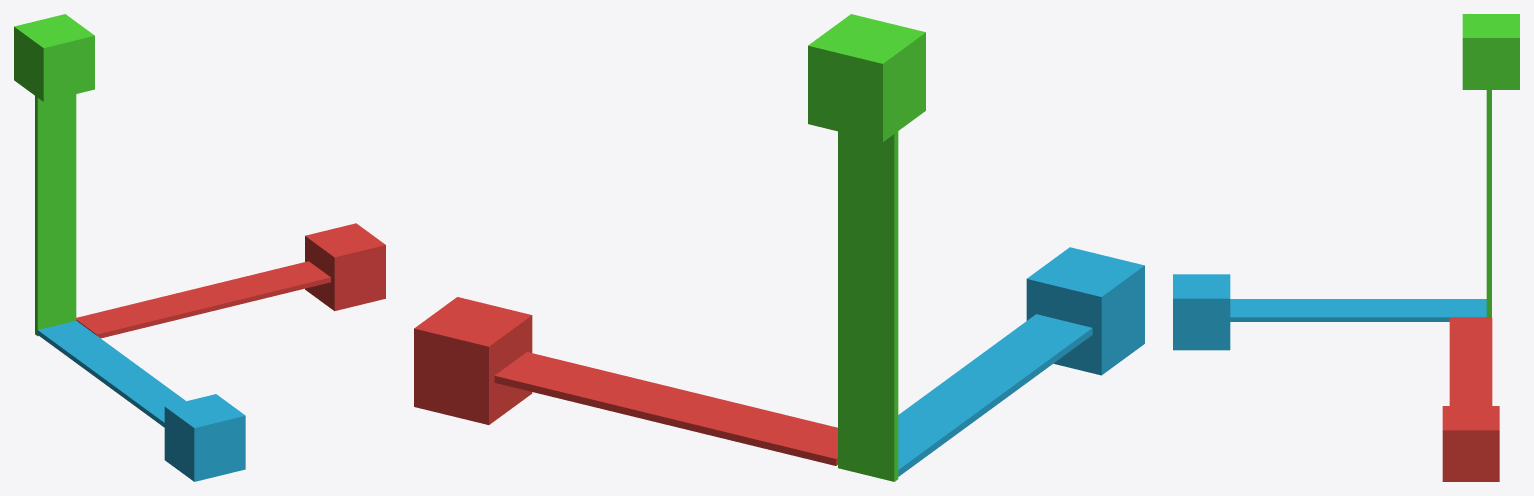
Rendered from scale1.fbx.
The picture shows the model from 3 angles, left to right: view 1: azimuth 30°, elevation 25°; view 2: azimuth 150°, elevation 25°; view 3: azimuth 270°, elevation 25°; orthographic projection. The views are drawn at different scales.
Parts seen in each view (by area): view 1: ScaleY, ScaleX, ScaleX.001; view 2: ScaleY, ScaleX, ScaleX.001; view 3: ScaleX.001, ScaleX, ScaleY.
Boxes of the visible parts, left/top/right/bottom form: ScaleY: left=14, top=14, right=94, bottom=336; ScaleX: left=76, top=223, right=385, bottom=338; ScaleX.001: left=37, top=320, right=245, bottom=481; ScaleY: left=808, top=14, right=925, bottom=481; ScaleX: left=414, top=297, right=837, bottom=465; ScaleX.001: left=898, top=247, right=1144, bottom=476; ScaleX.001: left=1173, top=274, right=1490, bottom=350; ScaleX: left=1442, top=317, right=1499, bottom=481; ScaleY: left=1462, top=14, right=1519, bottom=317.
Size of the model in its own units: 179 by 167 by 168.
